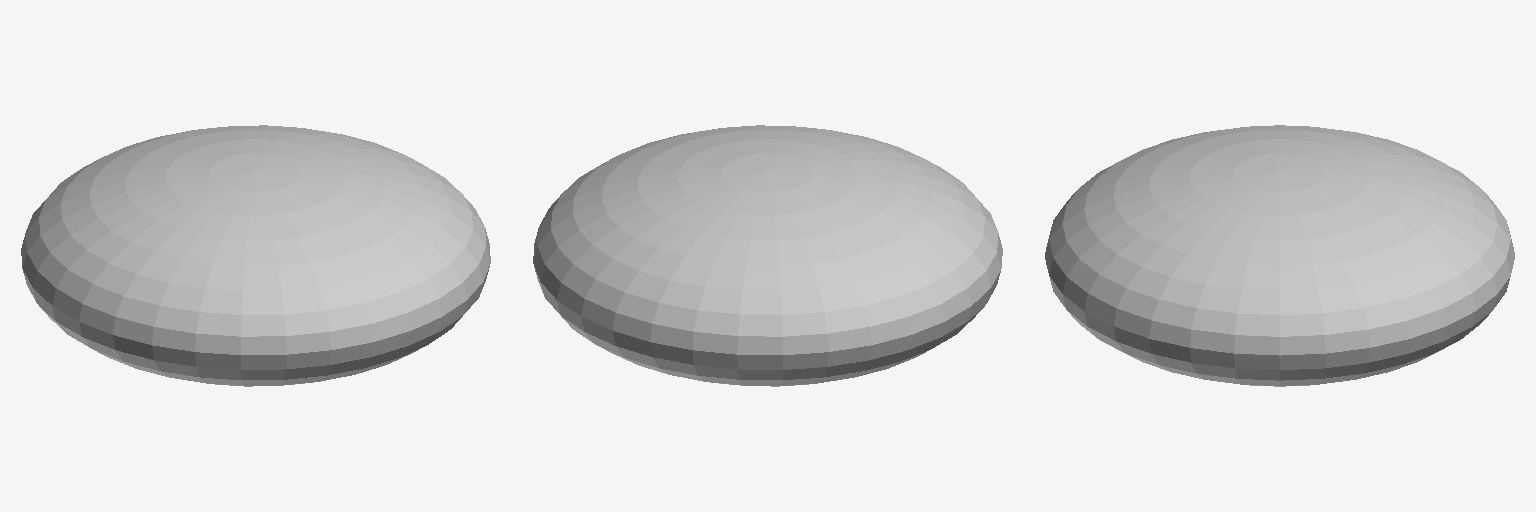
Rendered from shadow.obj.
The picture shows the model from 3 angles: view 1: azimuth 30°, elevation 25°; view 2: azimuth 150°, elevation 25°; view 3: azimuth 270°, elevation 25°; orthographic projection.
Parts seen in each view (by area): view 1: Sphere; view 2: Sphere; view 3: Sphere.
Part boxes in pixels (x1,y1,x2,y2): Sphere: (21,125,490,386); Sphere: (533,125,1002,386); Sphere: (1045,125,1514,386).
Size of the model in its own units: 1 by 0.4 by 1.